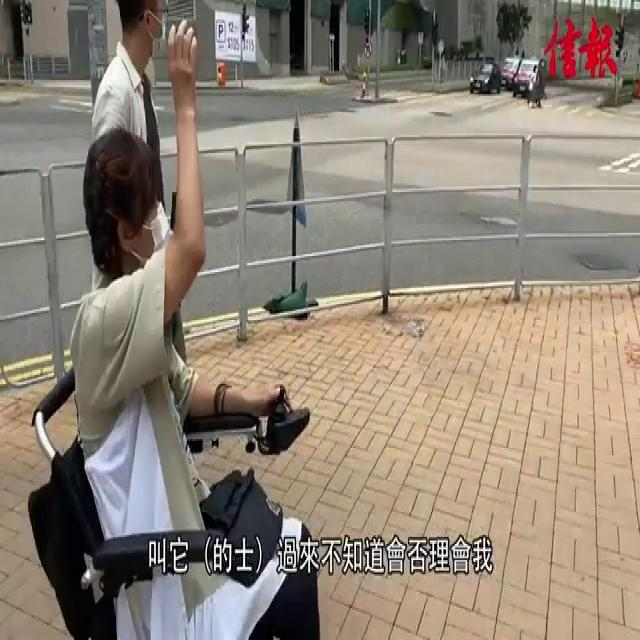wheelchairs: (19, 323, 329, 640)
